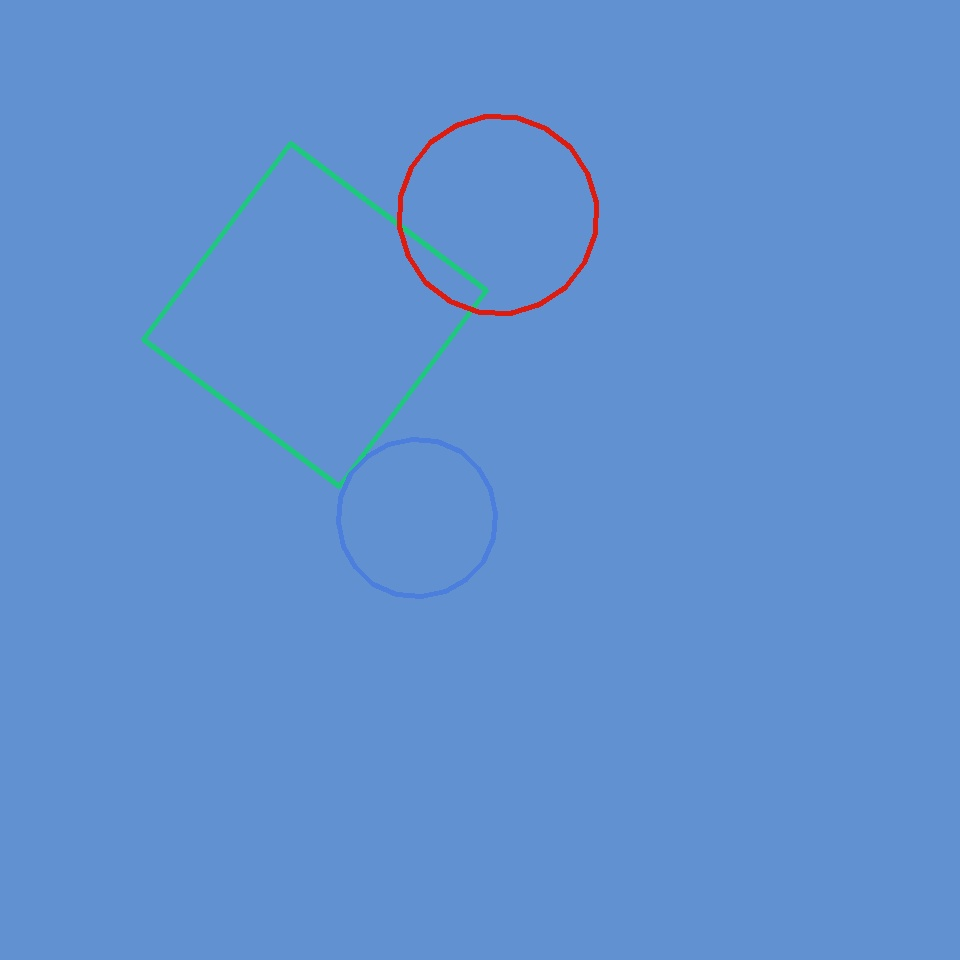square: (144, 144, 487, 487)
triangle: (400, 117, 596, 314), (338, 439, 496, 596)
